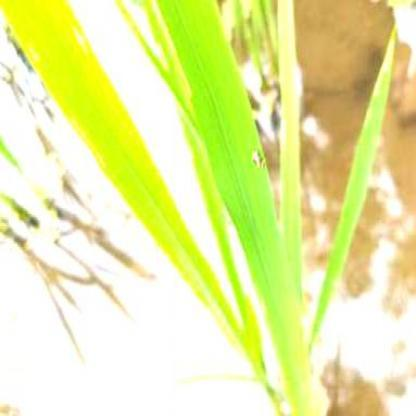rice-bug: (248, 144, 268, 173)
